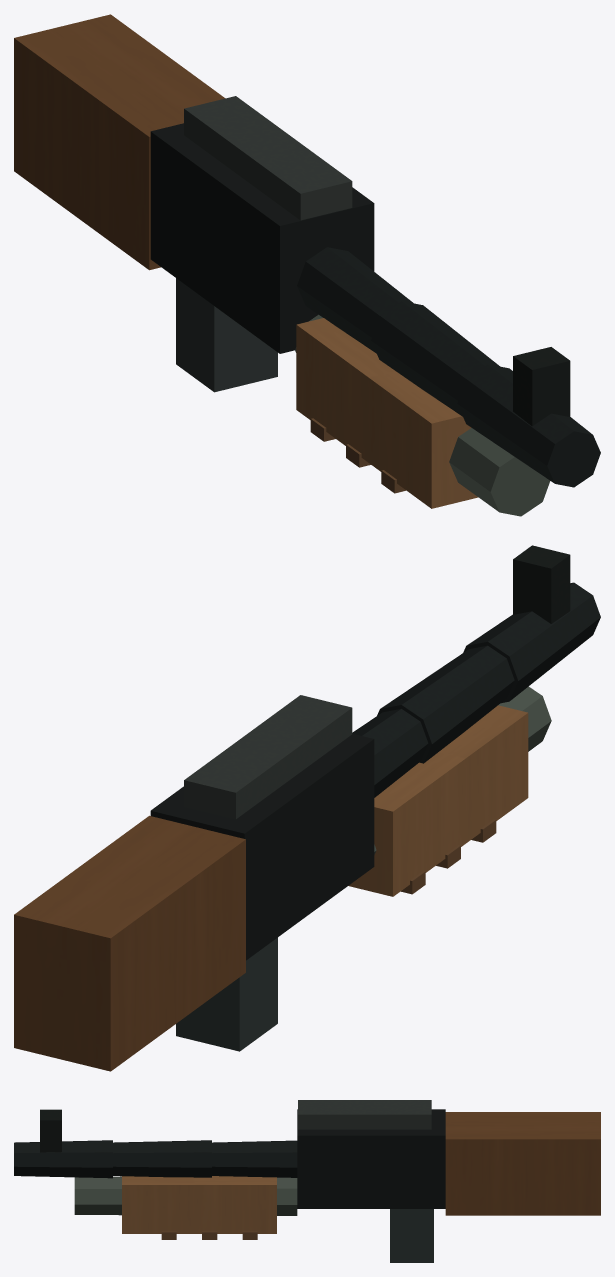
The model's file is pump.glb.
3 views of the same model, one above another, from view 1: azimuth 30°, elevation 25°; view 2: azimuth 150°, elevation 25°; view 3: azimuth 270°, elevation 25° (orthographic). The views are drawn at different scales.
Visible parts, largest first — view 1: Pump Shotgun; view 2: Pump Shotgun; view 3: Pump Shotgun.
Part boxes in pixels (x1,y1,x2,y2): Pump Shotgun: (14, 14, 600, 516); Pump Shotgun: (14, 545, 600, 1071); Pump Shotgun: (14, 1100, 600, 1262).
Bounding box in the file's own units: 0.1197 × 0.288 × 1.04.
Materials: 3 (2 with a texture image).
